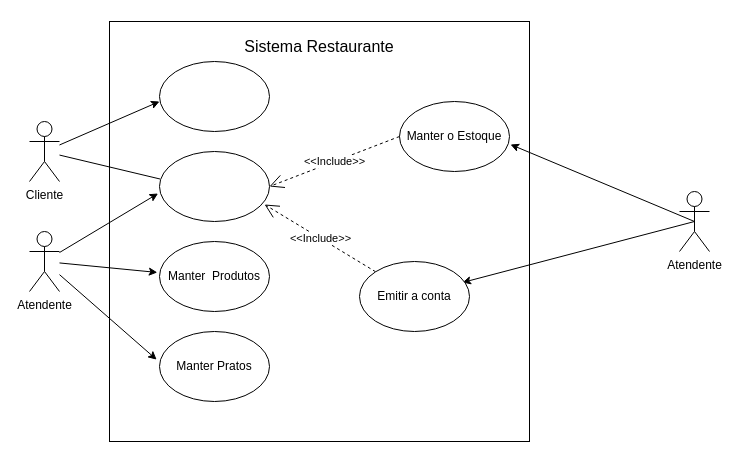
Image size: 739x459. Some labels were removed from this diagram. The shapes that lost their labels are listed below. From the top down, each one's box as (x1, y1, x2, y2) in pixels, then its label:
(158, 60, 270, 132): Consultar Menu
(158, 150, 270, 222): Manter Pedido
